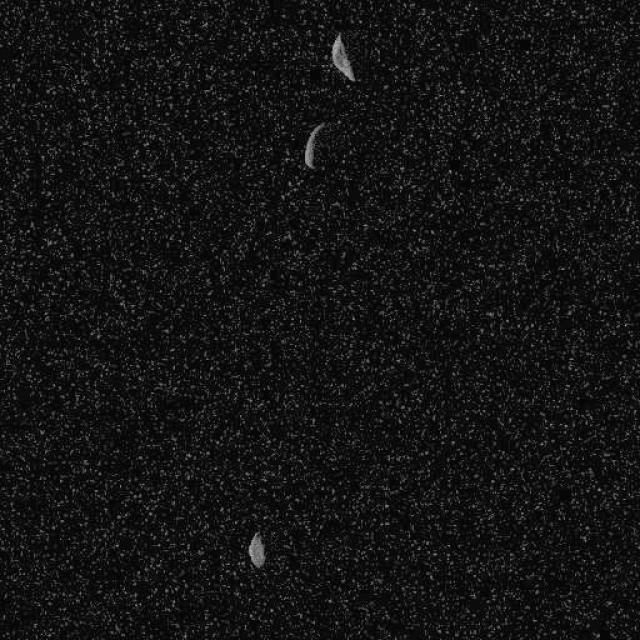D2: (330, 32, 356, 82), (302, 120, 328, 170), (246, 529, 266, 569)
